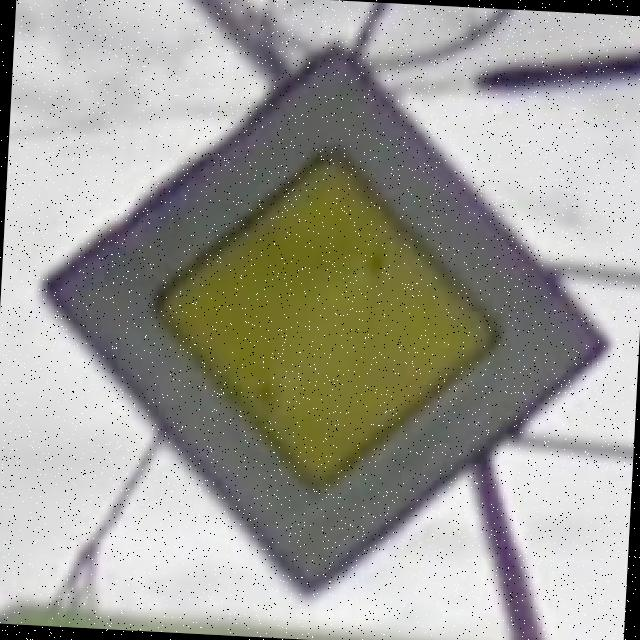Droga z pierwszenstwem: (24, 26, 629, 620)
